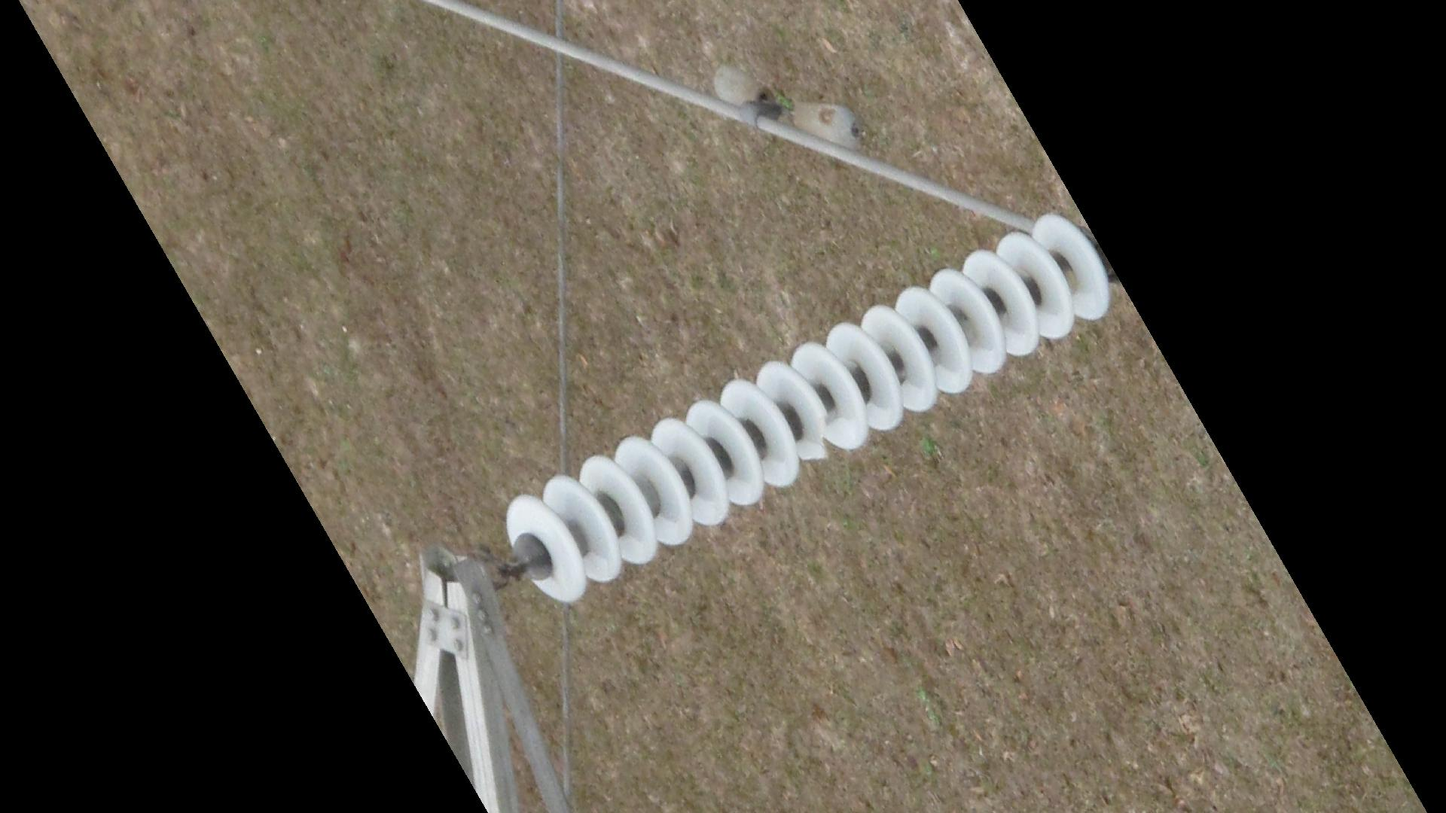insulator: (501, 207, 1116, 611)
insulator_breakage: (798, 400, 840, 470)
